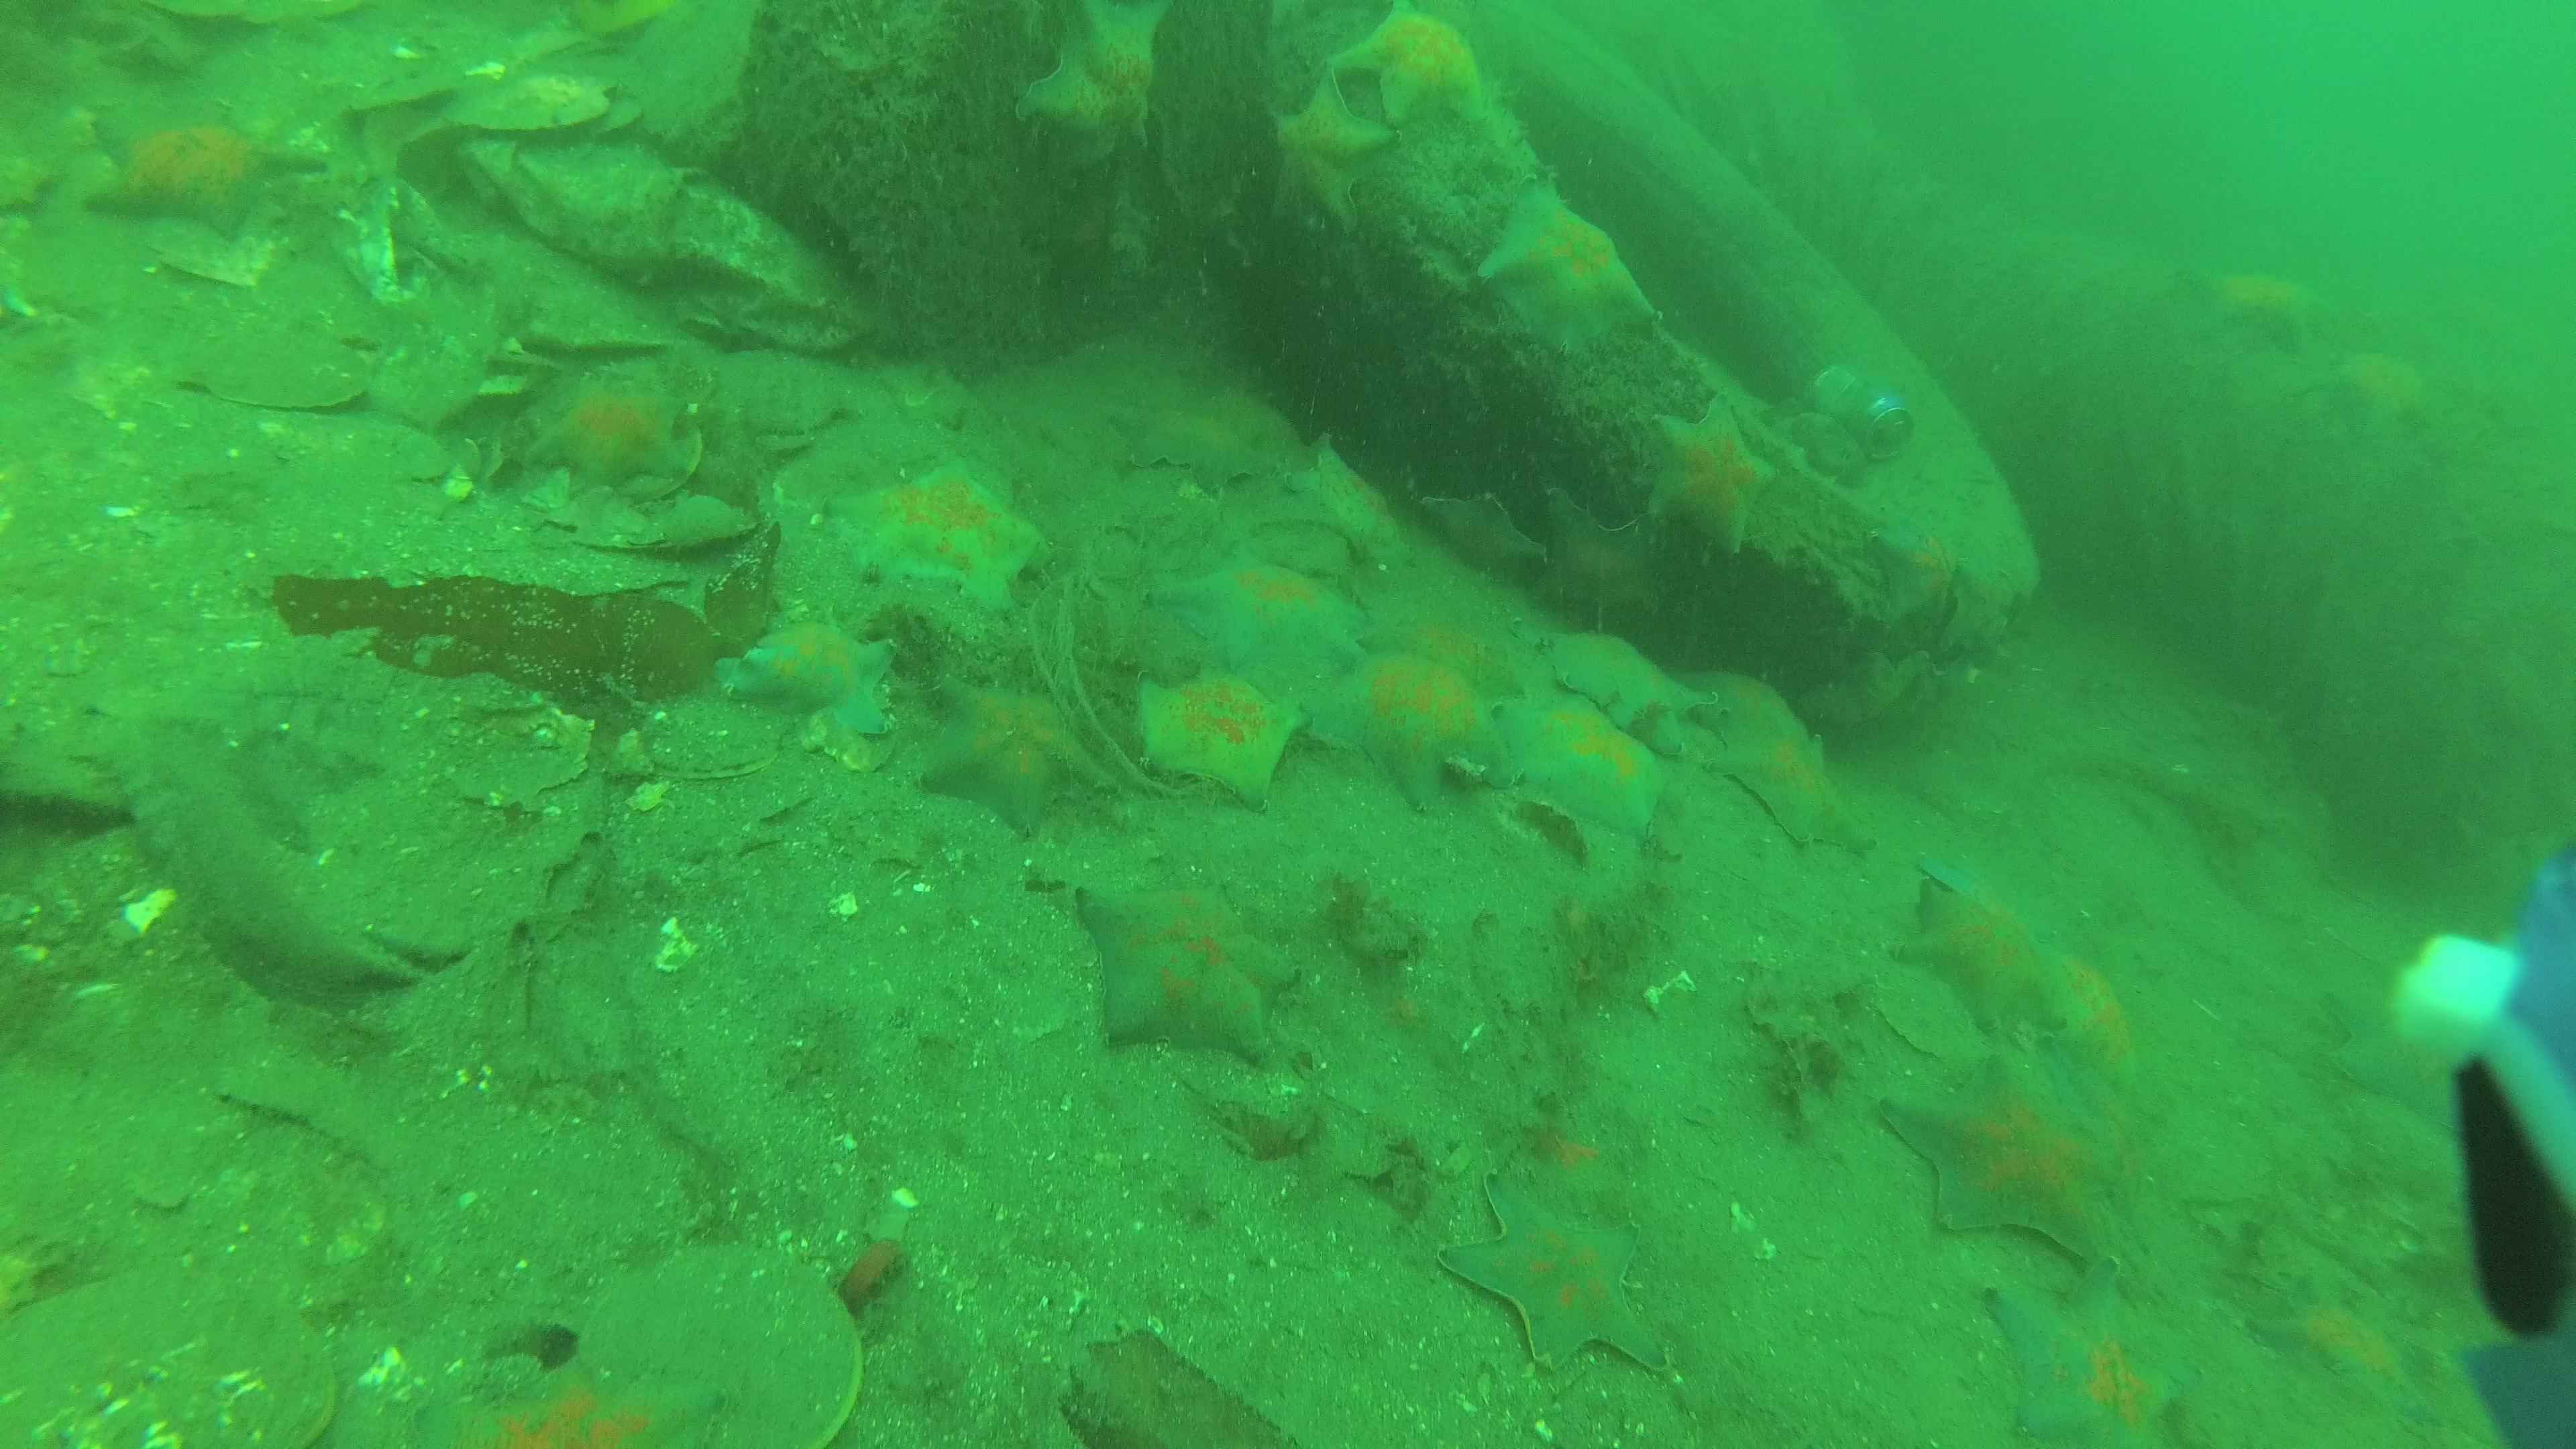echinus: (1233, 306, 1336, 414)
scallop: (0, 1269, 334, 1449), (580, 1240, 867, 1449), (444, 713, 594, 805), (258, 414, 449, 483), (2141, 1104, 2275, 1200), (198, 336, 368, 410), (548, 494, 754, 554), (702, 352, 840, 433), (1874, 966, 1974, 1074), (644, 702, 777, 782), (453, 87, 635, 136)
starfish: (1877, 1046, 2127, 1276), (1438, 1173, 1674, 1382), (1985, 1253, 2204, 1449), (1074, 879, 1302, 1062), (832, 458, 1047, 614), (1477, 175, 1660, 359), (1311, 653, 1523, 803), (916, 678, 1109, 839), (87, 115, 326, 241), (1893, 878, 2040, 1058), (2252, 1284, 2438, 1424), (1148, 556, 1362, 672), (1132, 667, 1307, 809), (425, 1371, 720, 1449), (1514, 697, 1668, 846), (1023, 0, 1166, 147), (1323, 0, 1488, 124), (1656, 389, 1778, 550), (2325, 998, 2465, 1138), (1274, 67, 1394, 228), (1713, 738, 1863, 860), (1108, 386, 1269, 494), (748, 630, 908, 736), (1541, 483, 1652, 621), (533, 379, 685, 478), (1364, 616, 1514, 709), (1553, 625, 1658, 734), (1281, 435, 1391, 536), (1422, 490, 1534, 582), (1868, 524, 1960, 630), (1677, 672, 1806, 745), (2337, 364, 2440, 451), (2203, 271, 2318, 345), (2040, 938, 2125, 1035), (1100, 156, 1157, 274)
